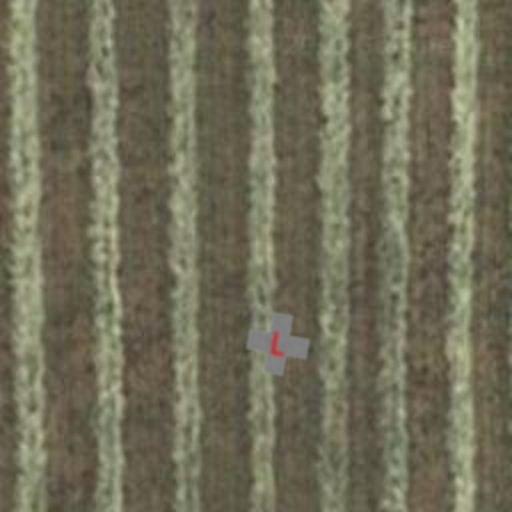cross: (242, 308, 314, 380)
